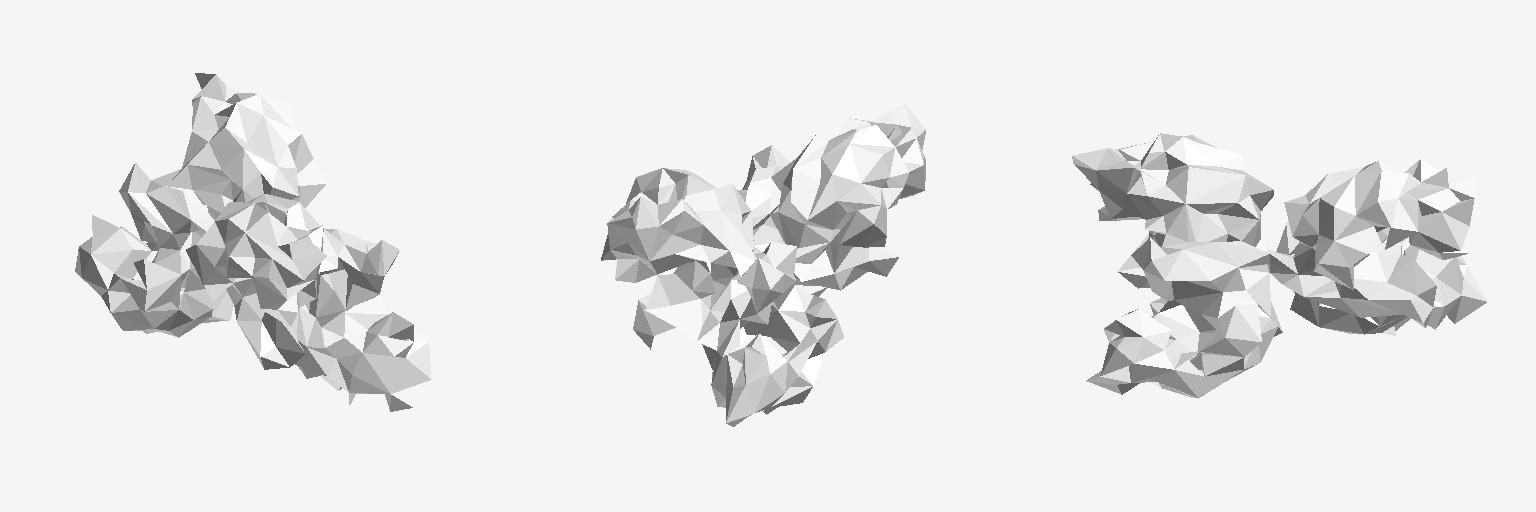
Rendered from psma.obj.
3 renders of one model, left to right at view 1: azimuth 30°, elevation 25°; view 2: azimuth 150°, elevation 25°; view 3: azimuth 270°, elevation 25°, orthographic.
Parts seen in each view (by area): view 1: CoarseMS_1z8l; view 2: CoarseMS_1z8l; view 3: CoarseMS_1z8l.
Boxes of the visible parts, x1=… form: CoarseMS_1z8l: x1=75, y1=73, x2=431, y2=411; CoarseMS_1z8l: x1=601, y1=104, x2=926, y2=426; CoarseMS_1z8l: x1=1072, y1=133, x2=1487, y2=398.
Size of the model in its own units: 81.48 by 91.09 by 153.